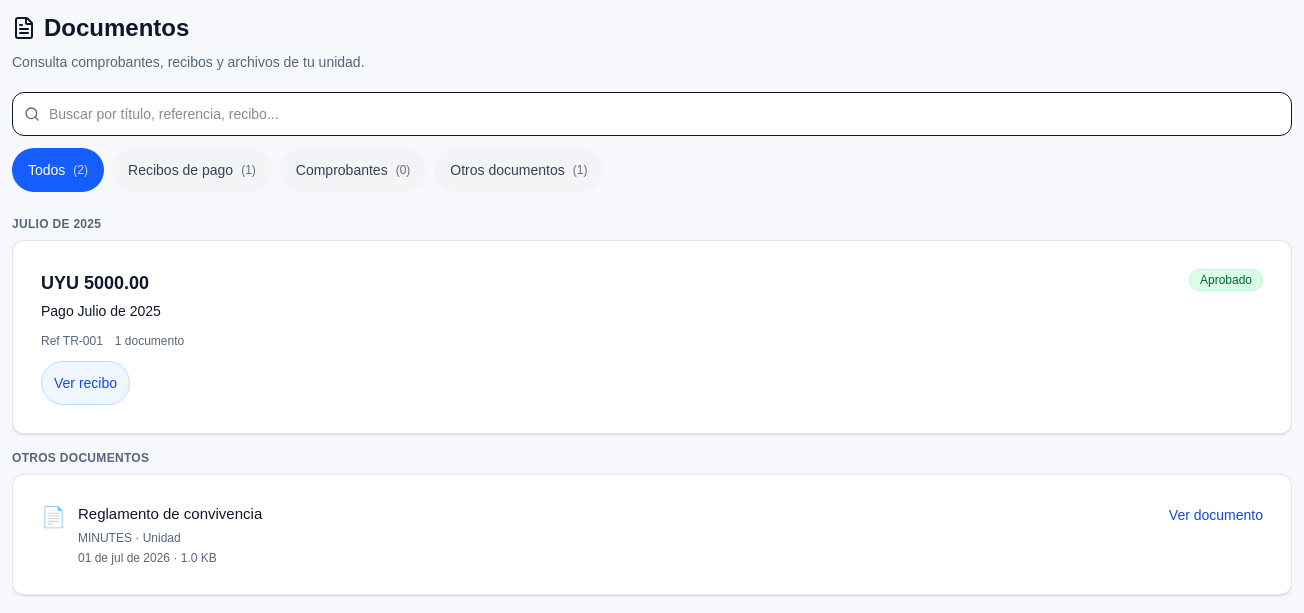
Test: ResidentDocumentsPage › Mobile layout › supports search and clear in the compact mobile view
Type "Reglamento" into the field named "Buscar documentos". click: (652, 114)
box: [12,92,1292,136]
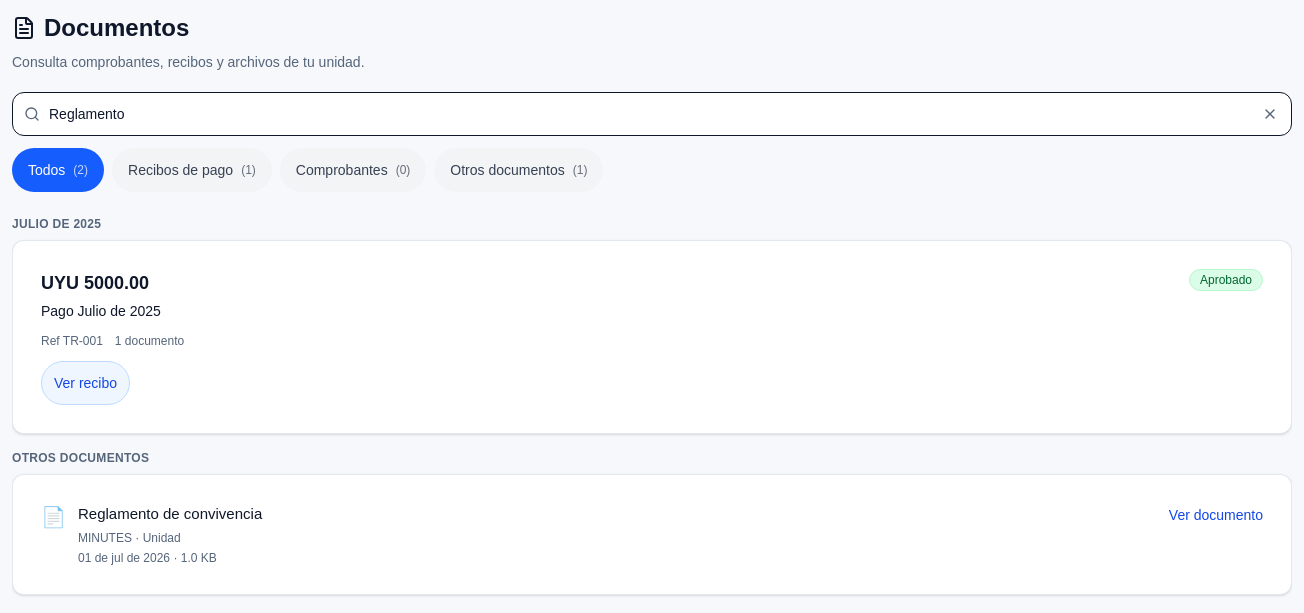
Expected: the text "Reglamento de convivencia" is shown, [78,505,262,522]
Click the button named "Limpiar búsqueda". click: (1270, 114)
box: [1256,100,1284,128]
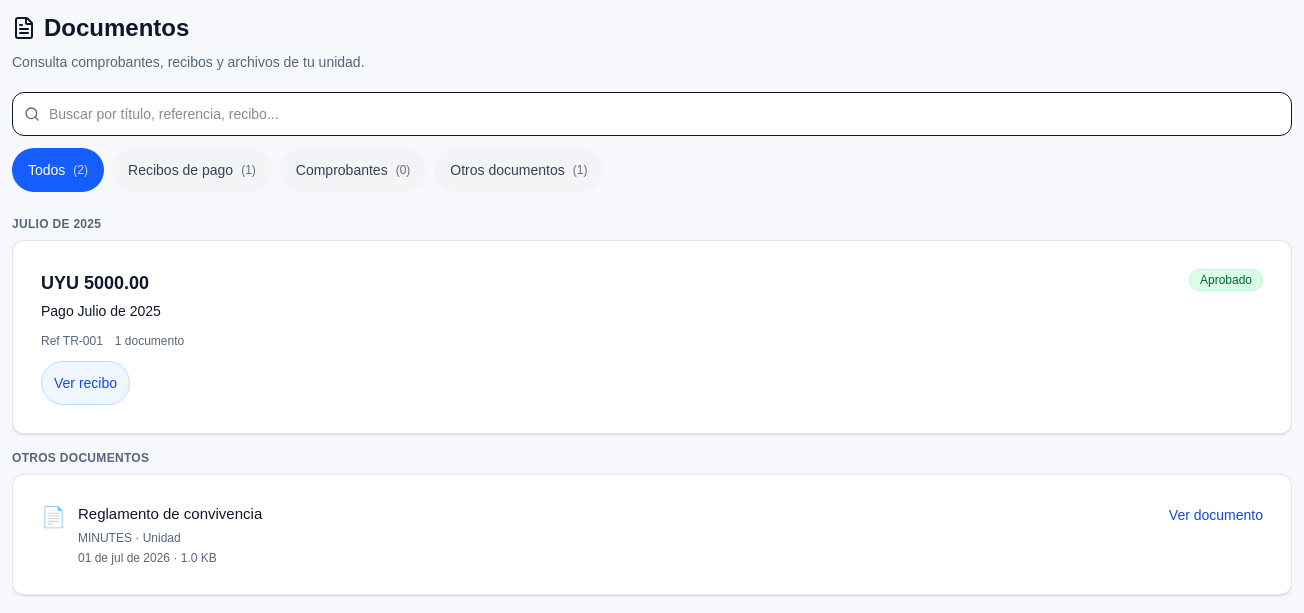
Result: the field named "Buscar documentos" is empty at [12,92,1292,136]
